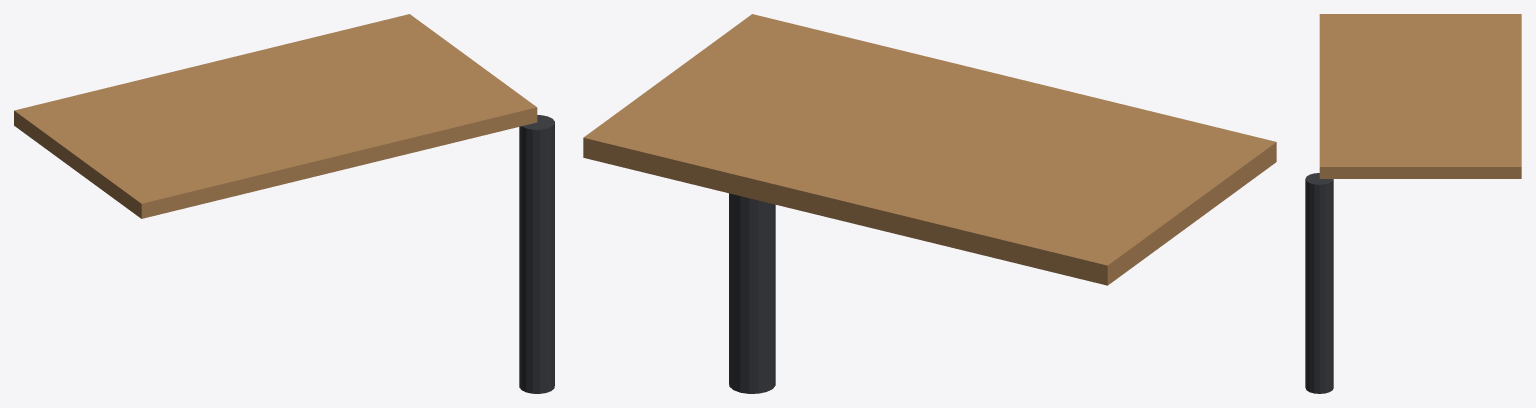
Rendered from patio_set_bistro_2.glb.
3 views of the same model, side by side, from view 1: azimuth 30°, elevation 25°; view 2: azimuth 150°, elevation 25°; view 3: azimuth 270°, elevation 25° (orthographic). The views are drawn at different scales.
Bounding box in the file's own units: 1.13 × 0.7366 × 0.6523.
